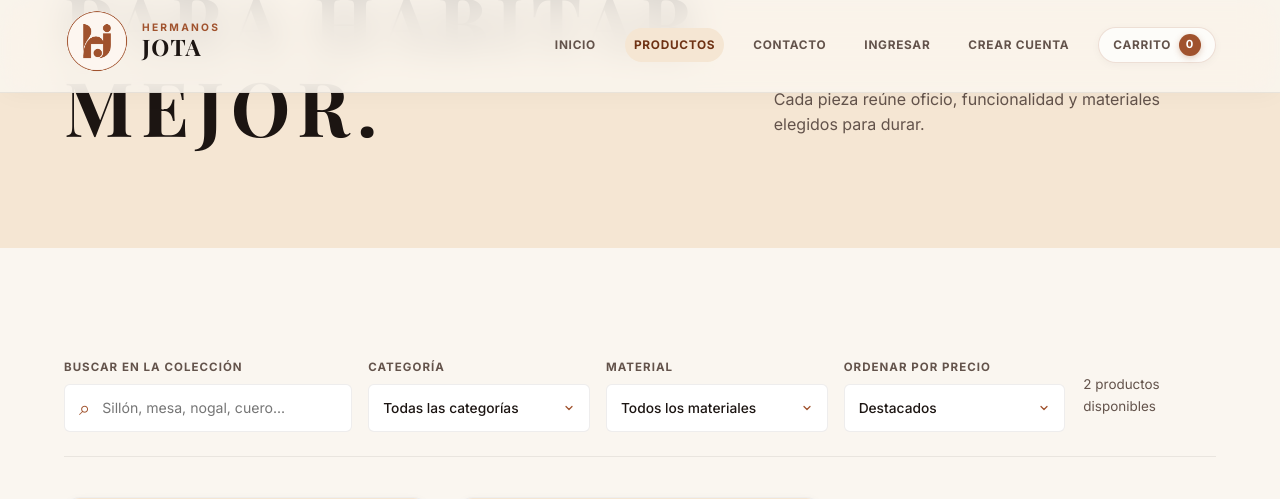
Test case: filtra el catálogo con un evento de React
(page scrolled)
Type "biblioteca" into the search field labelled "Buscar en la colección". click: x=221, y=408
box: [90,397,351,419]
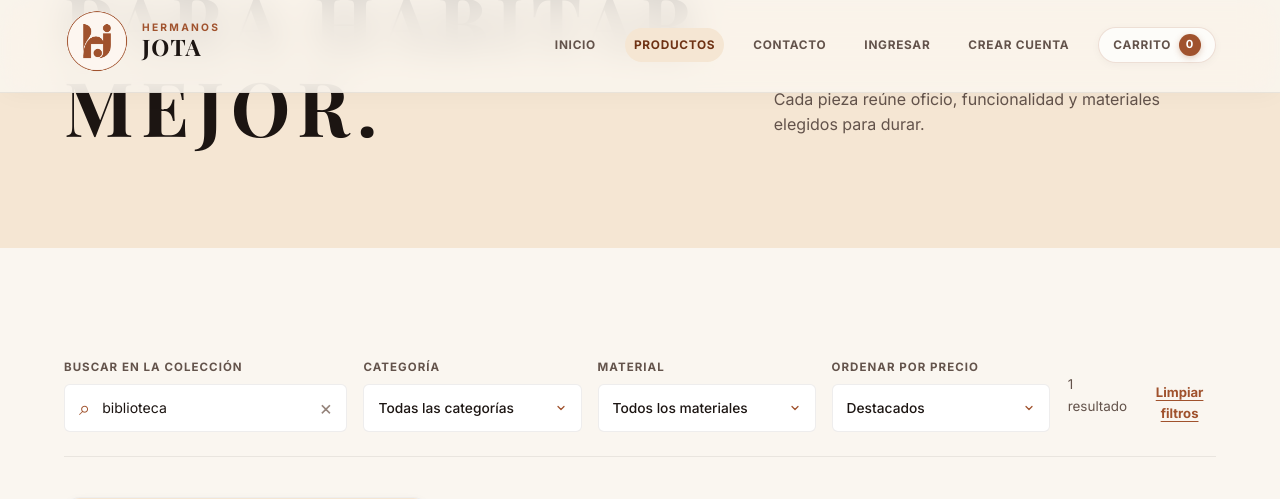
Result: the text "1 resultado" is shown at [1068,374,1127,432]
